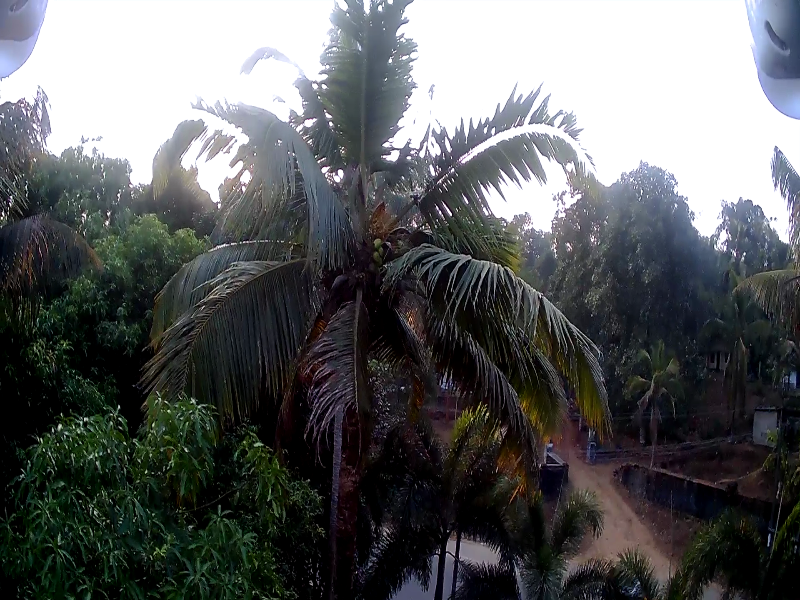coconut: (368, 249, 381, 262), (373, 239, 385, 249), (369, 237, 375, 246)
